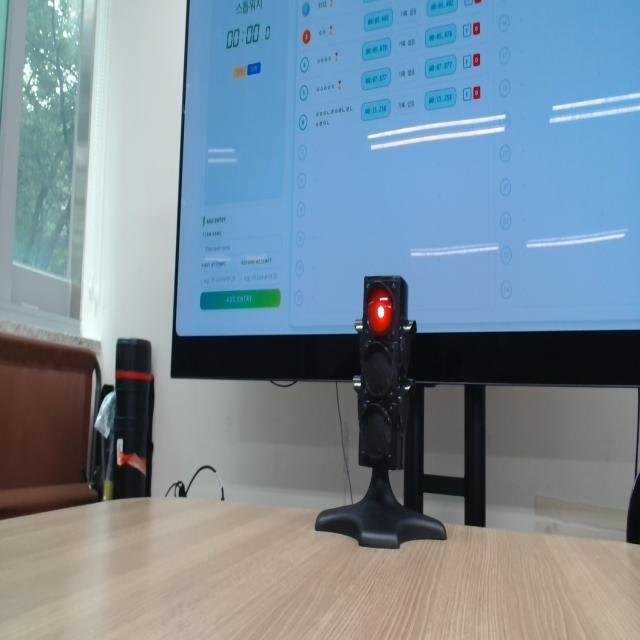red_light: (367, 288, 393, 335)
